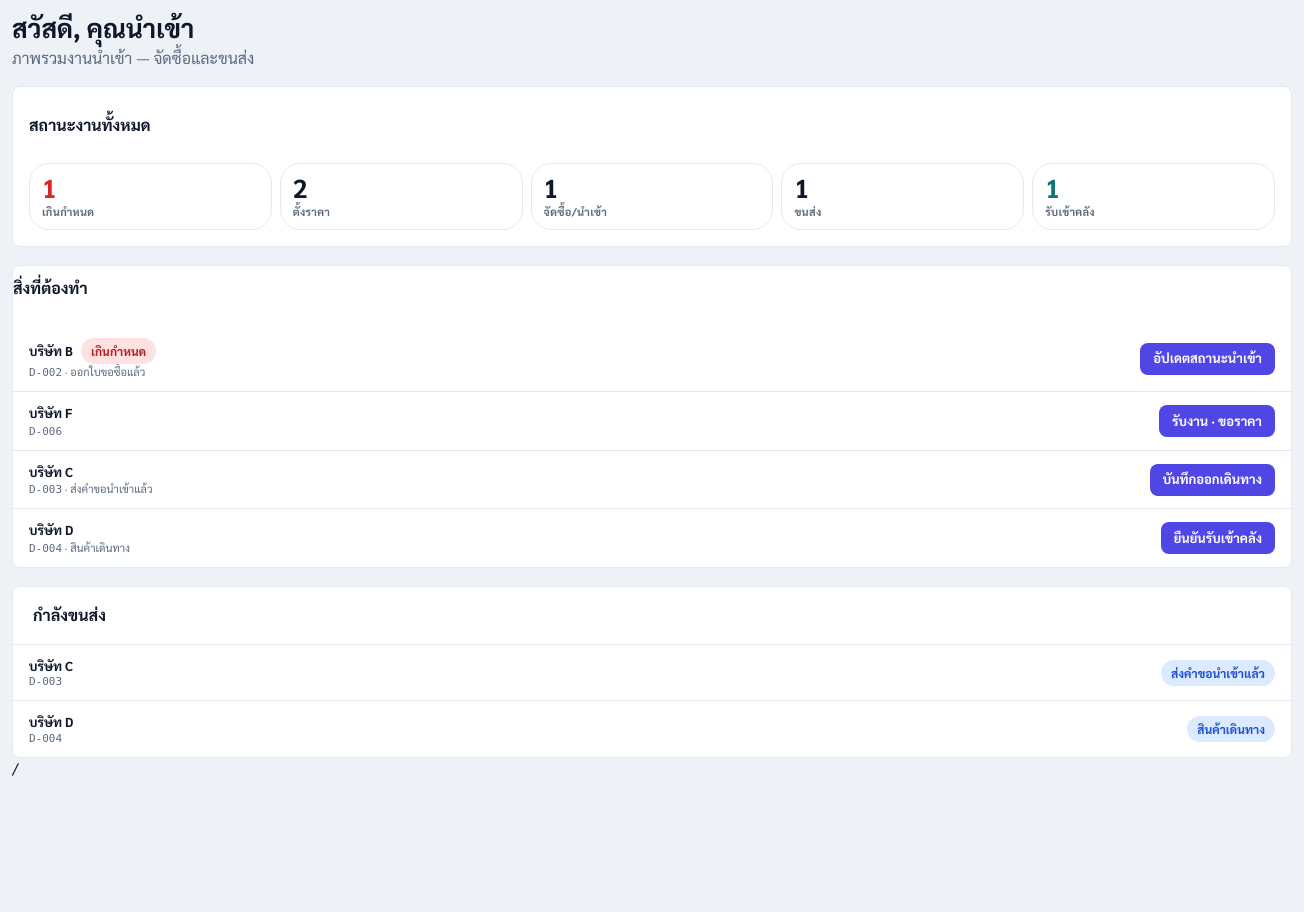
Test: ImportOverview deal links › sends a legacy-action CTA to /import/deals/:id
Click the button "บันทึกออกเดินทาง" at (1212, 480), box [1150,464,1275,496]
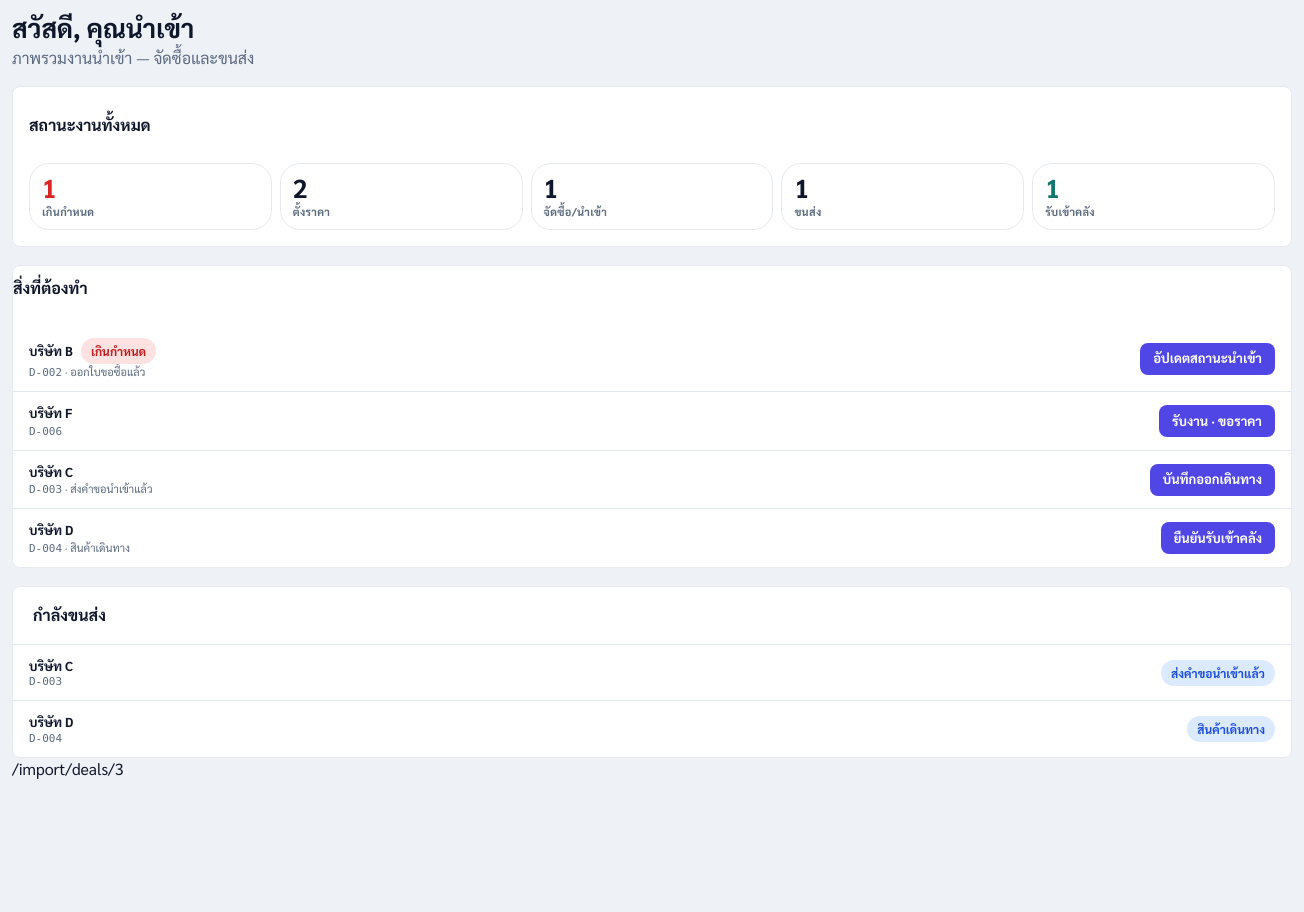
Now the text with test id "location" reads "/import/deals/3", box [12,758,124,779]
